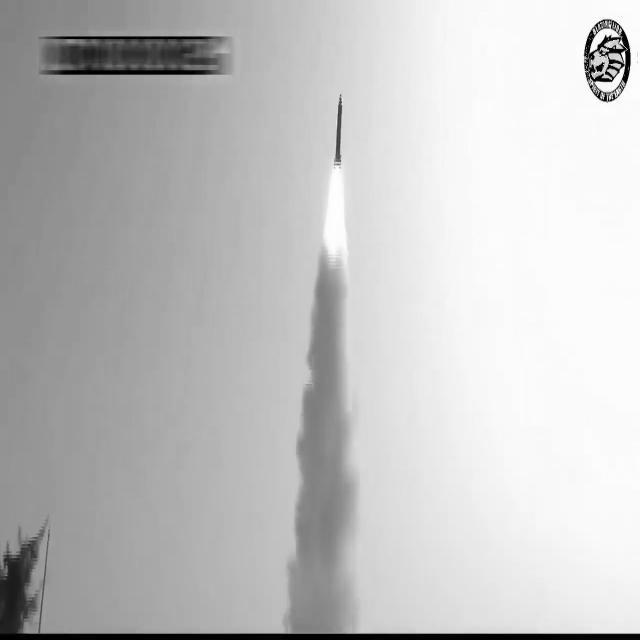missile: (332, 90, 346, 170)
